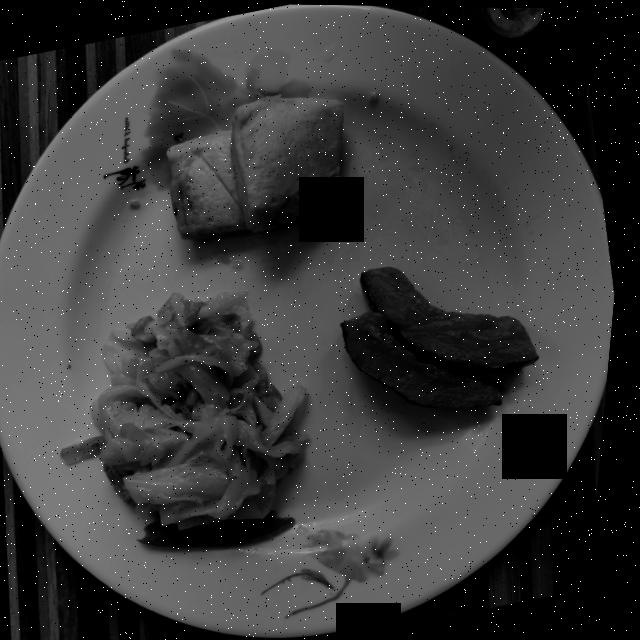cabbage: (68, 290, 314, 547)
coin: (481, 6, 544, 37)
creamy tofu -without sauce-: (169, 94, 345, 239)
pumpkin: (348, 265, 544, 406)
